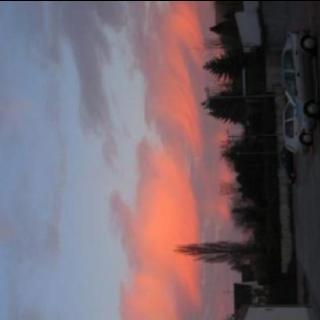Altocumulus: (36, 0, 213, 320)
